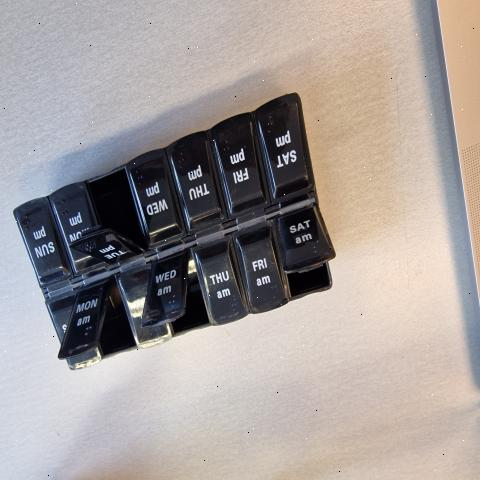Open: (68, 168, 146, 246), (167, 247, 209, 337), (96, 278, 136, 358), (283, 256, 335, 299)
